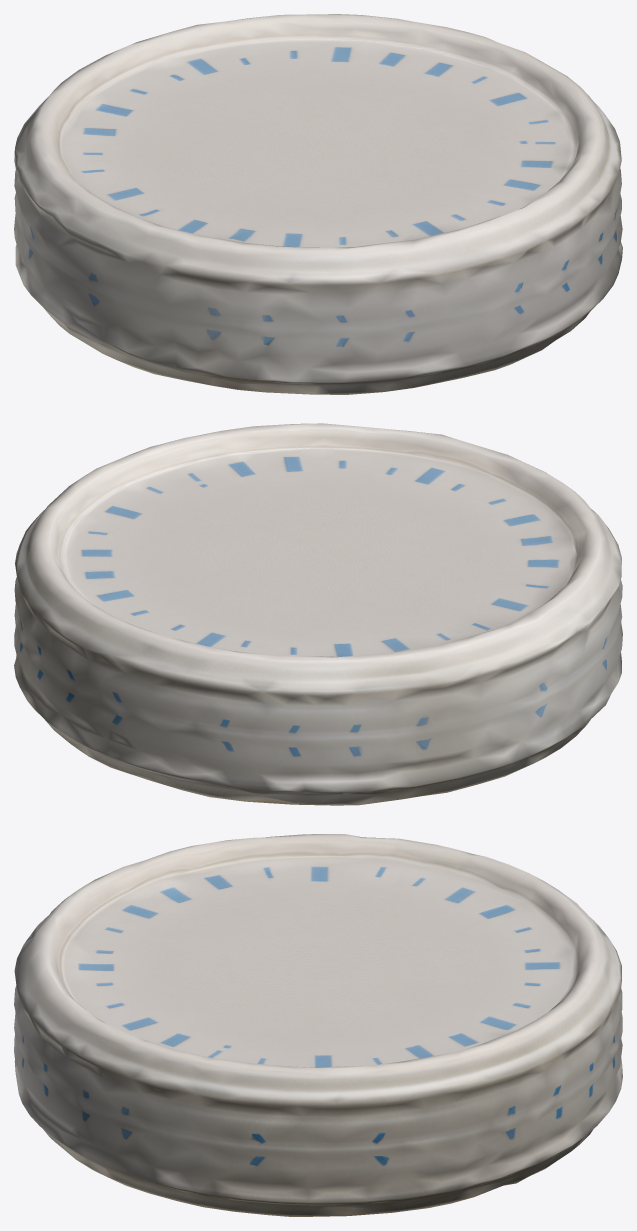
File: VAR_PoolHall_WallClock_NoHands.fbx
3 views of the same model, one above another, from view 1: azimuth 30°, elevation 25°; view 2: azimuth 150°, elevation 25°; view 3: azimuth 270°, elevation 25° (orthographic).
Parts seen in each view (by area): view 1: texture_mapping; view 2: texture_mapping; view 3: texture_mapping.
Boxes of the visible parts, x1,y1,x2,y2 form: texture_mapping: [14, 14, 622, 394]; texture_mapping: [14, 423, 622, 805]; texture_mapping: [14, 834, 622, 1216].
Bounding box in the file's own units: 1 × 0.9996 × 0.2664.
1 material, 1 textured.
